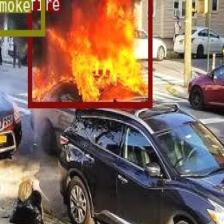fire: (27, 0, 151, 106)
smoke: (0, 0, 44, 35)
